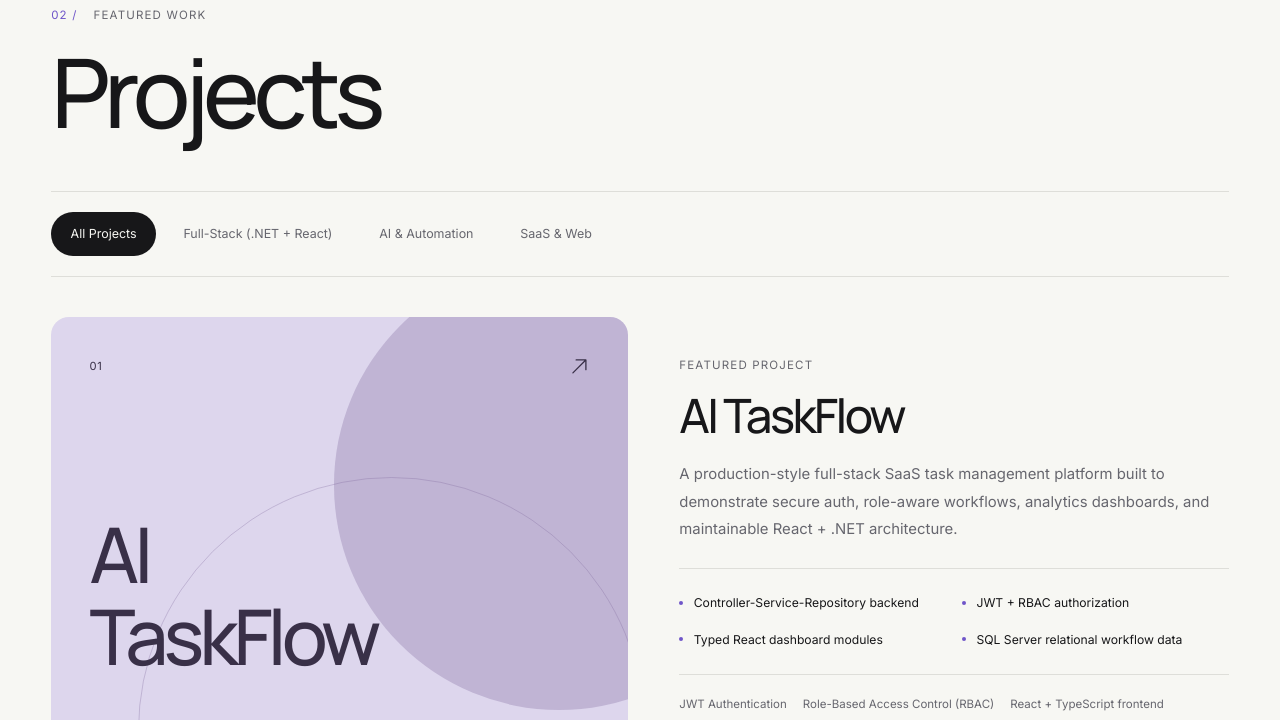
Test: shows the featured project once in every matching filter and retains its item details
Click the button "All Projects". click: (104, 234)
box: [51,212,156,256]
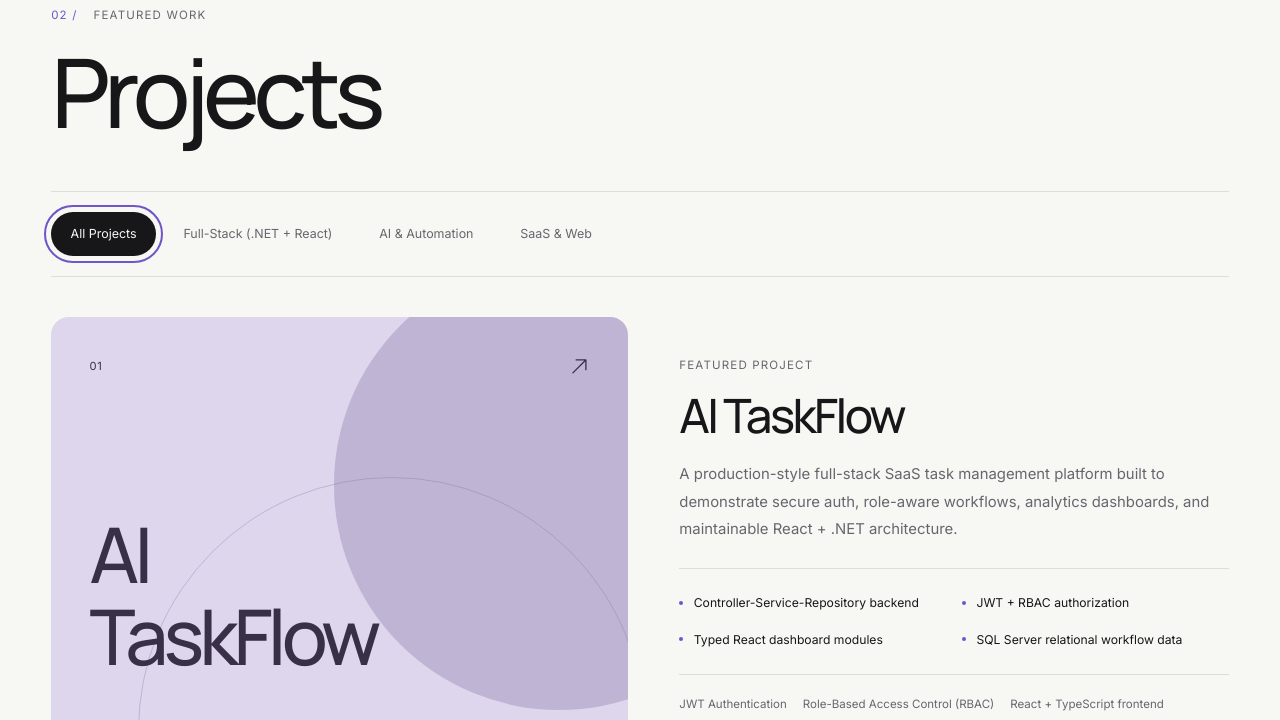
Expected: the heading "AI TaskFlow" is shown, [679,383,904,447]
Expected: the text "A production-style full-stack SaaS task management platform built to demonstrate secure auth, role-aware workflows, anal" is shown, [679,465,1209,538]
Click the button "Full-Stack (.NET + React)". click: (258, 234)
box: [164,212,352,256]
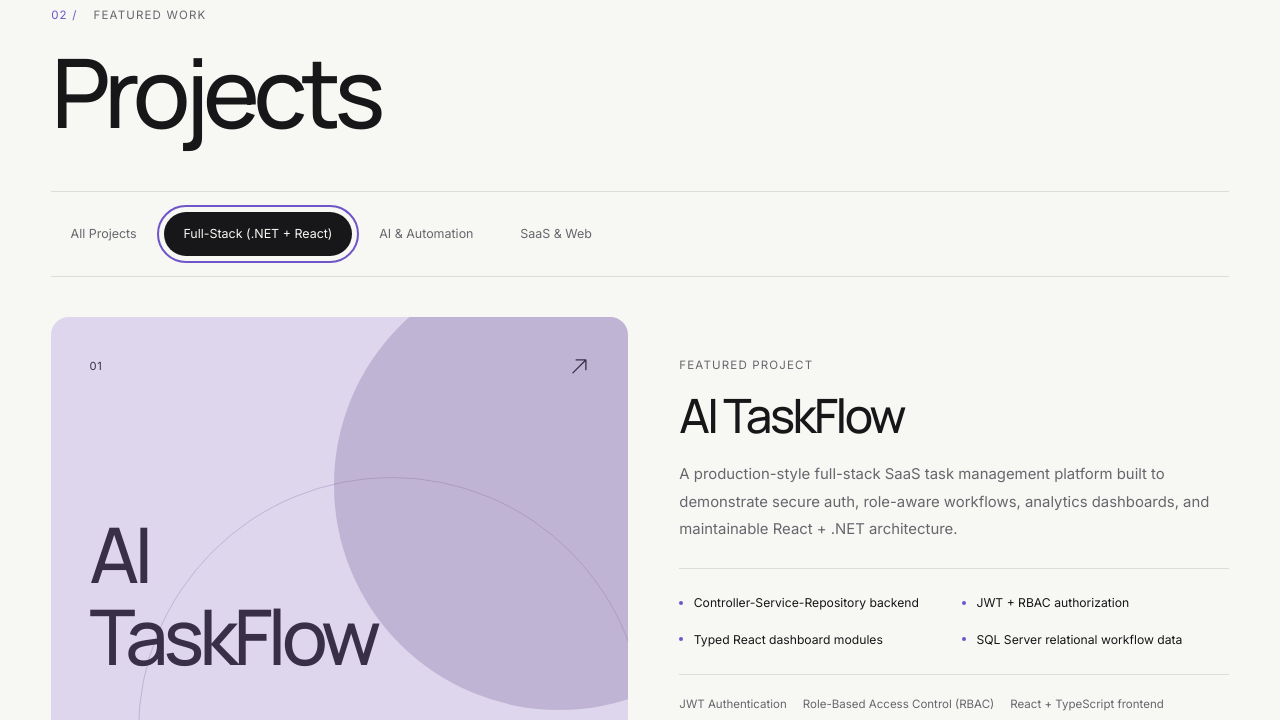
Expected: the heading "AI TaskFlow" is shown, [679,383,904,447]
Expected: the text "A production-style full-stack SaaS task management platform built to demonstrate secure auth, role-aware workflows, anal" is shown, [679,465,1209,538]
Click the button "AI & Automation". click: (426, 234)
box: [360,212,493,256]
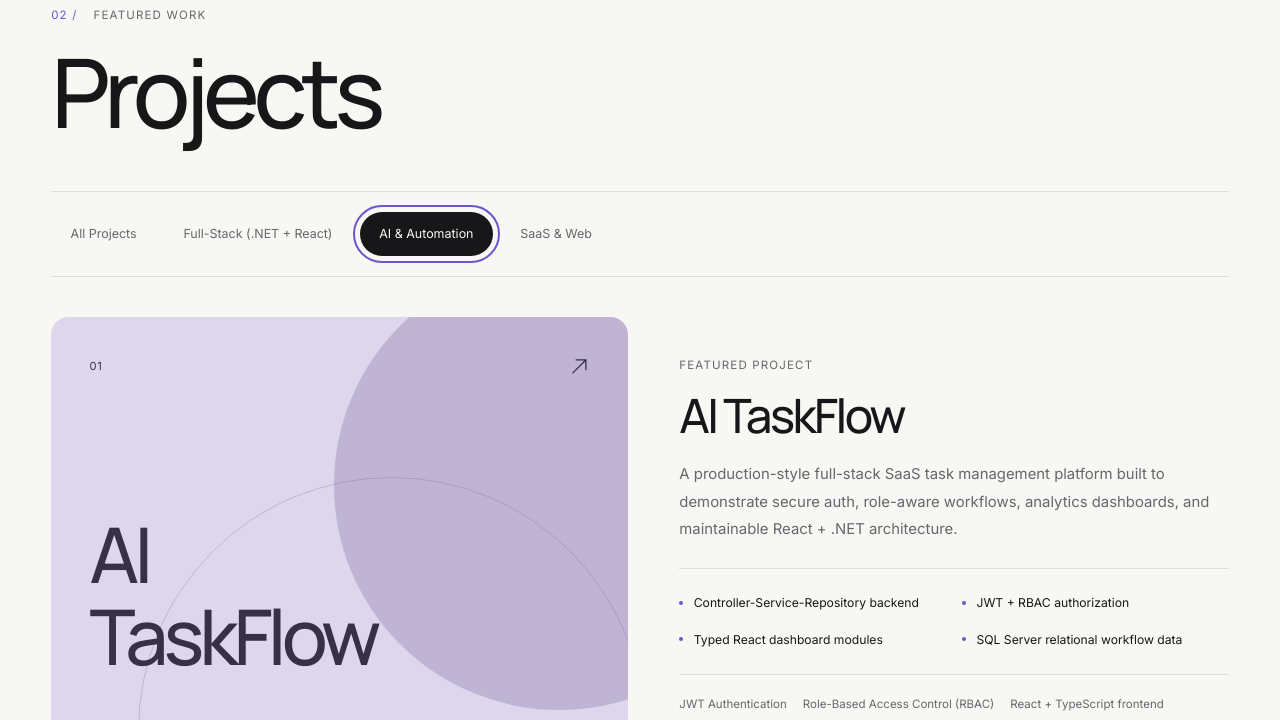
Expected: the heading "AI TaskFlow" is shown, [679,383,904,447]
Expected: the text "A production-style full-stack SaaS task management platform built to demonstrate secure auth, role-aware workflows, anal" is shown, [679,465,1209,538]
Click the button "SaaS & Web". click: (556, 234)
box: [501,212,611,256]
(page scrolled)
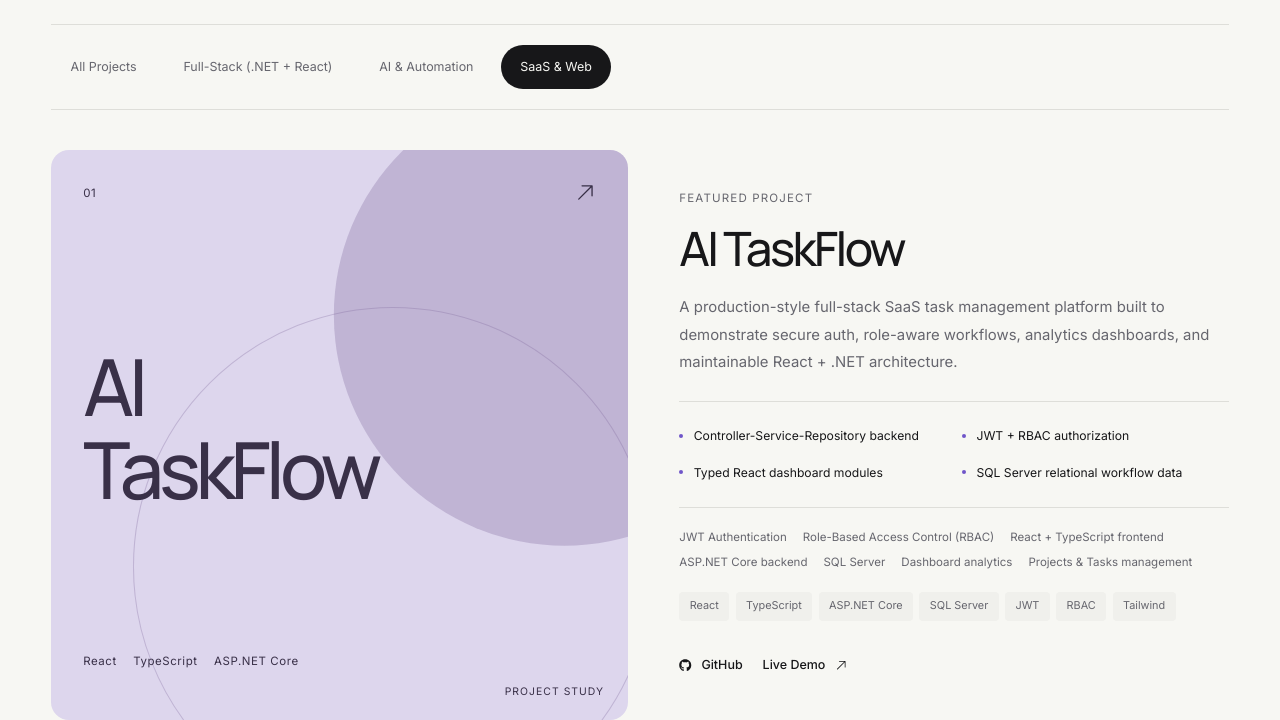
Expected: the heading "AI TaskFlow" is shown, [679,216,904,280]
Expected: the text "A production-style full-stack SaaS task management platform built to demonstrate secure auth, role-aware workflows, anal" is shown, [679,298,1209,371]
Press Enter
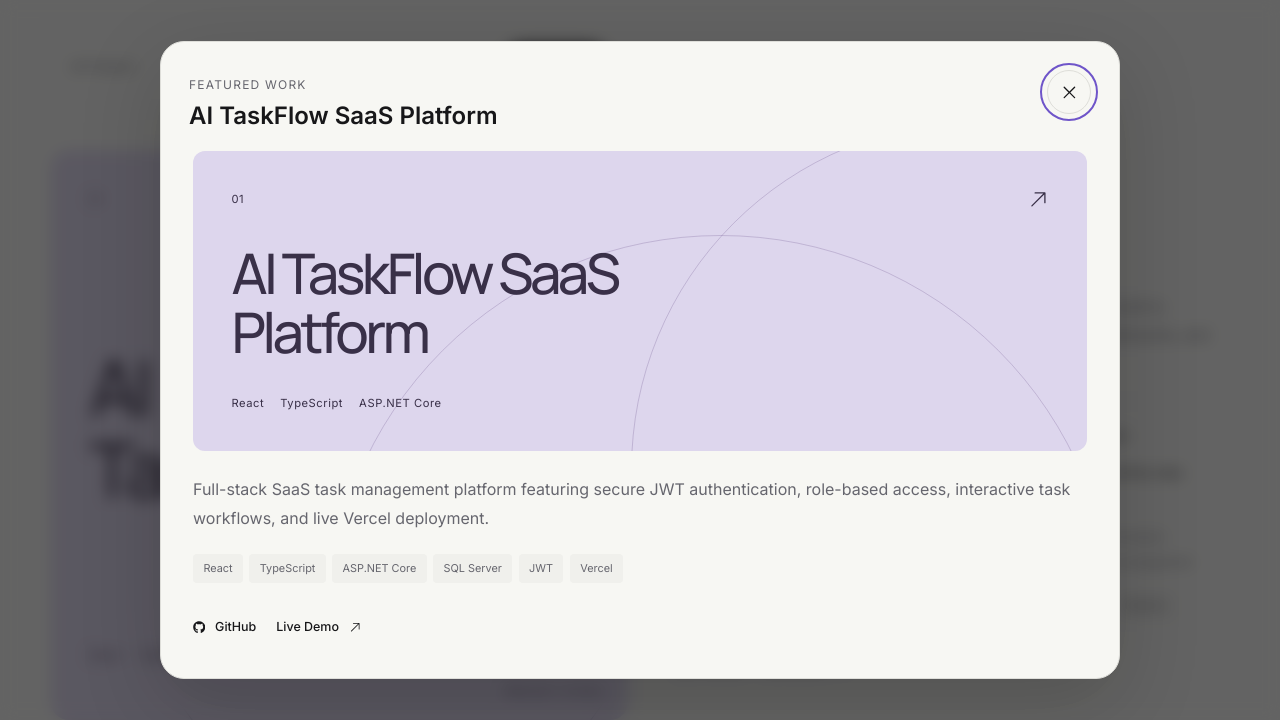
Expected: the text "Full-stack SaaS task management platform featuring secure JWT authentication, role-based access, interactive task workfl" is shown, [193,479,1070,528]
Expected: the text "React" is shown, [231,394,264,412]
Expected: the text "TypeScript" is shown, [280,394,343,412]
Press Escape
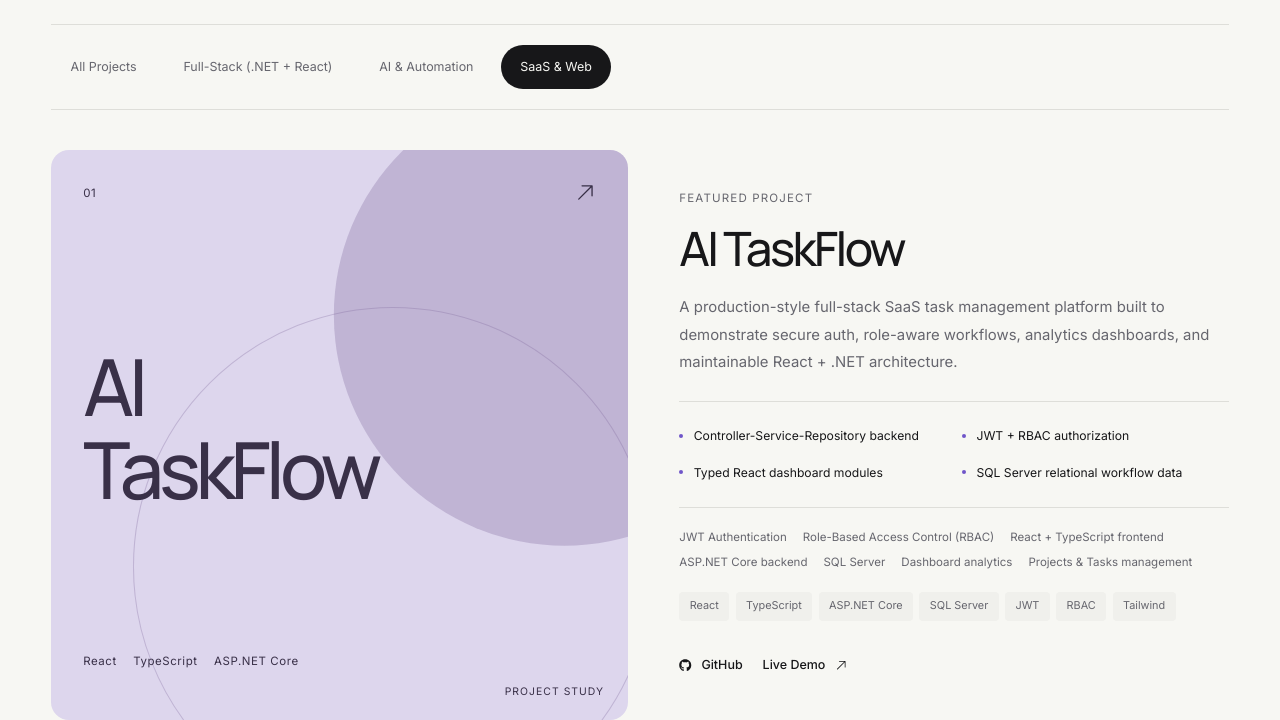
Expected: the dialog is gone
